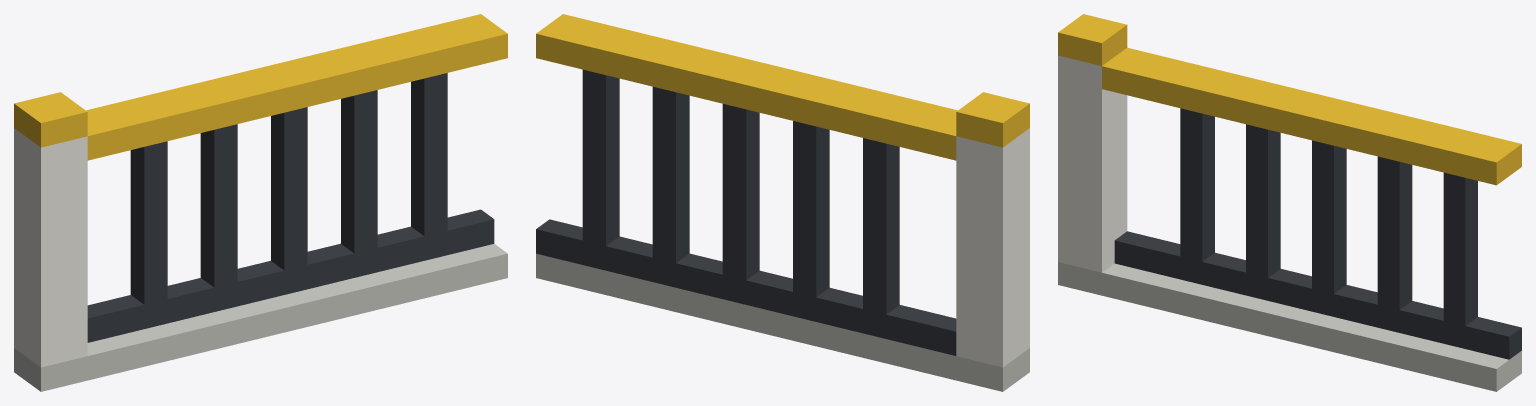
Rendered from railing.glb.
The picture shows the model from 3 angles, left to right: view 1: azimuth 30°, elevation 25°; view 2: azimuth 150°, elevation 25°; view 3: azimuth 330°, elevation 25°; orthographic projection. The views are drawn at different scales.
Visible parts, largest first — view 1: rail; view 2: rail; view 3: rail.
Boxes of the visible parts, left/top/right/bottom form: rail: left=14, top=14, right=507, bottom=391; rail: left=536, top=14, right=1029, bottom=391; rail: left=1058, top=14, right=1521, bottom=391.
Bounding box in the file's own units: 2 × 1.1 × 0.2.
